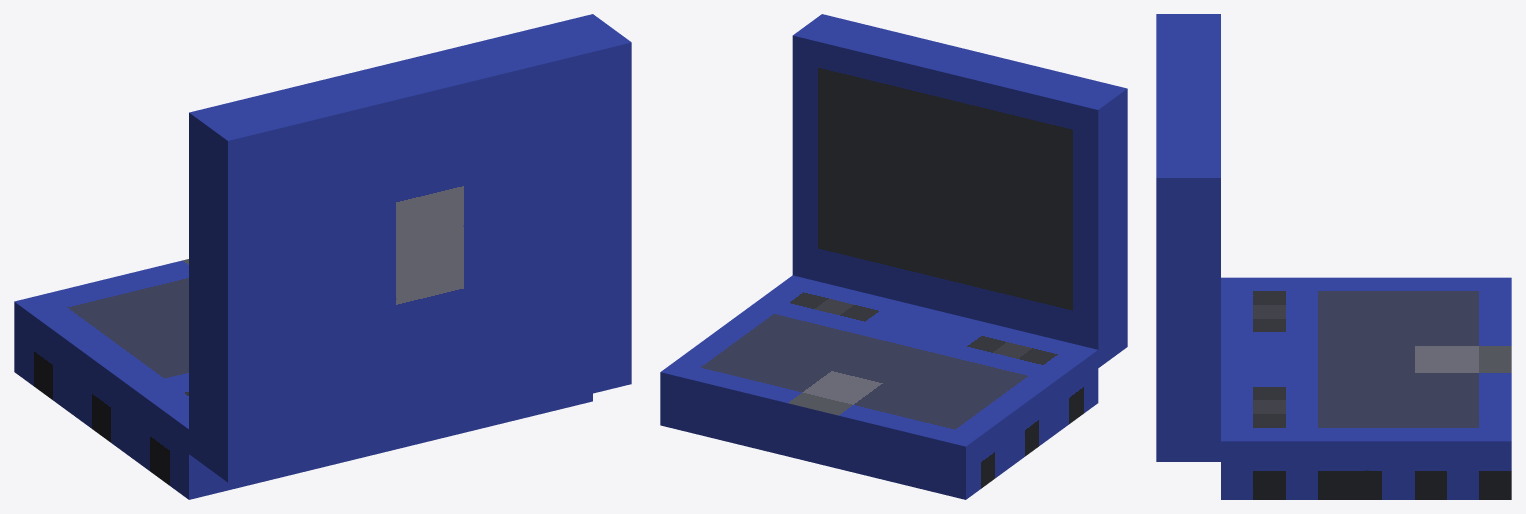
Rendered from Laptop.obj.
The picture shows the model from 3 angles, left to right: view 1: azimuth 30°, elevation 25°; view 2: azimuth 150°, elevation 25°; view 3: azimuth 270°, elevation 25°; orthographic projection. The views are drawn at different scales.
Visible parts, largest first — view 1: Top, Base; view 2: Top, Base; view 3: Base, Top.
Boxes of the visible parts, x1,y1,x2,y2 form: Top: [189, 14, 631, 482]; Base: [14, 259, 592, 499]; Top: [792, 14, 1127, 367]; Base: [660, 275, 1098, 499]; Base: [1221, 277, 1511, 499]; Top: [1156, 14, 1220, 461].
Bounding box in the file's own units: 0.75 × 0.6875 × 0.6875.
Materials: 1 (1 with a texture image).
